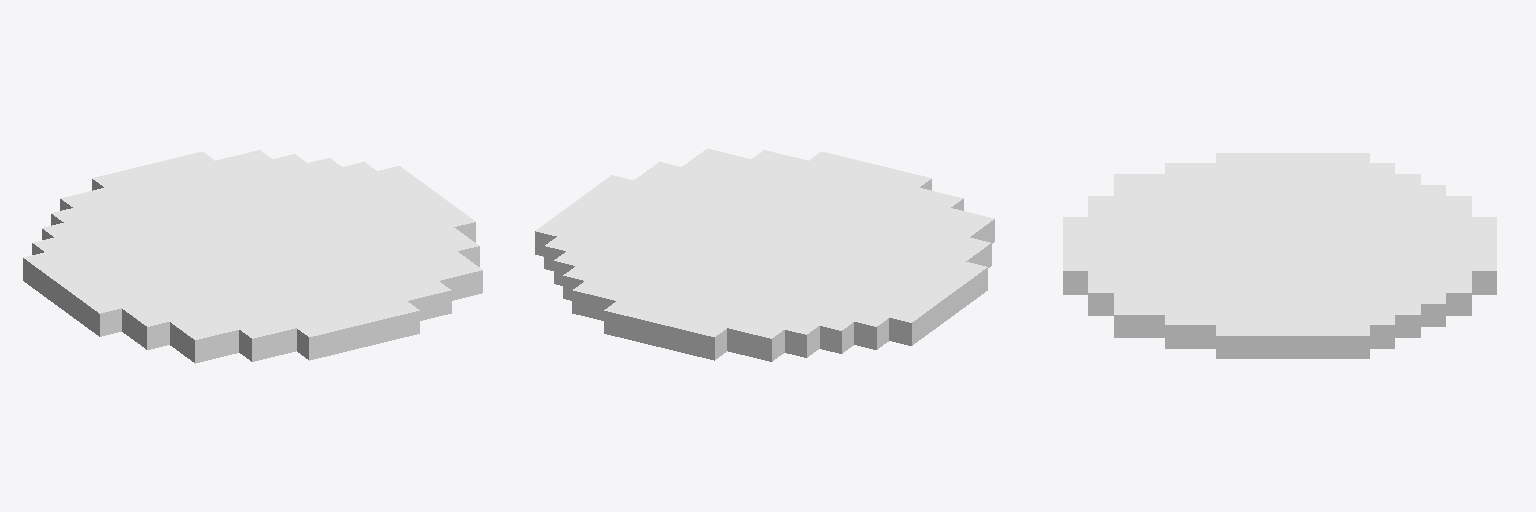
Rendered from teleporter.obj.
3 views of the same model, side by side, from view 1: azimuth 30°, elevation 25°; view 2: azimuth 150°, elevation 25°; view 3: azimuth 270°, elevation 25° (orthographic).
Parts seen in each view (by area): view 1: object 1; view 2: object 1; view 3: object 1.
Boxes of the visible parts, x1,y1,x2,y2 form: object 1: [23, 150, 482, 363]; object 1: [535, 148, 994, 361]; object 1: [1063, 153, 1496, 358].
Size of the model in its own units: 1.7 by 0.1 by 1.7.